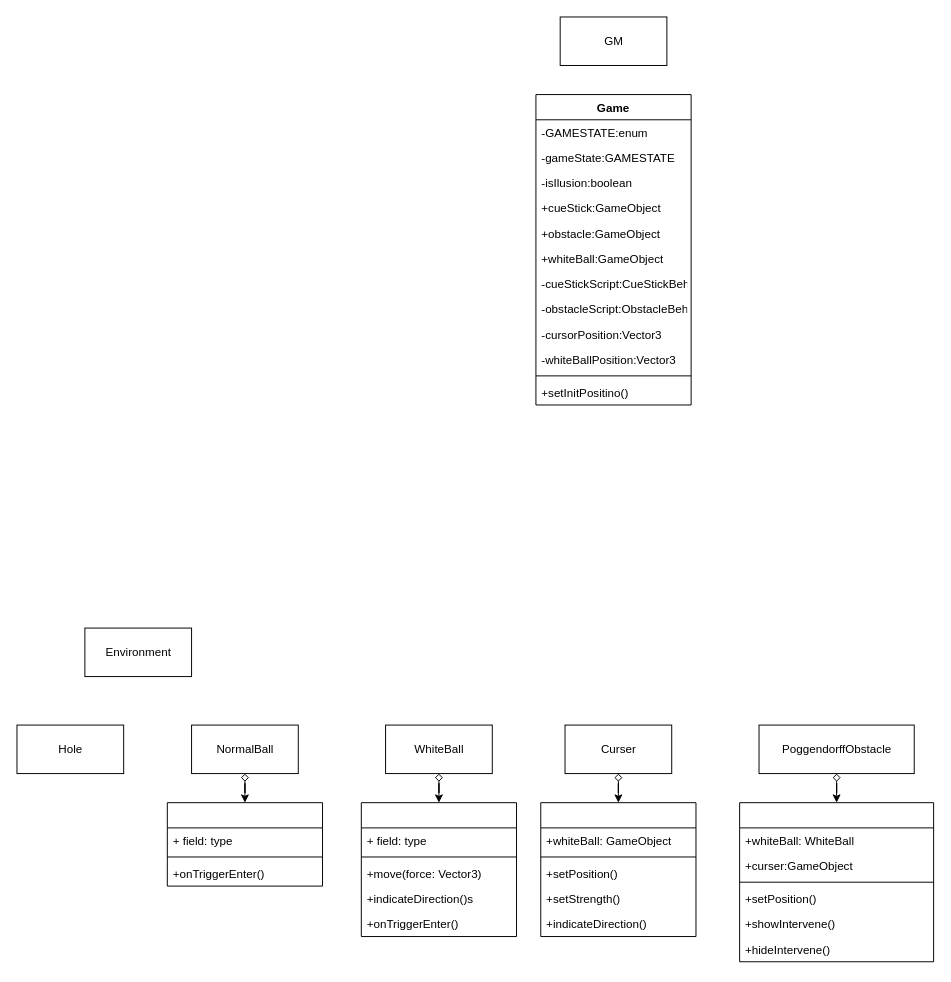
This 951x982 diagram has some shape labels left out. Each missing label, with the box of its shape:
CurserBehavior: (540, 802, 696, 937)
NormalBallBehavior: (166, 802, 323, 886)
PoggendorffObstacleBehavior: (739, 802, 934, 962)
WhiteBallBehavior: (360, 802, 517, 937)
